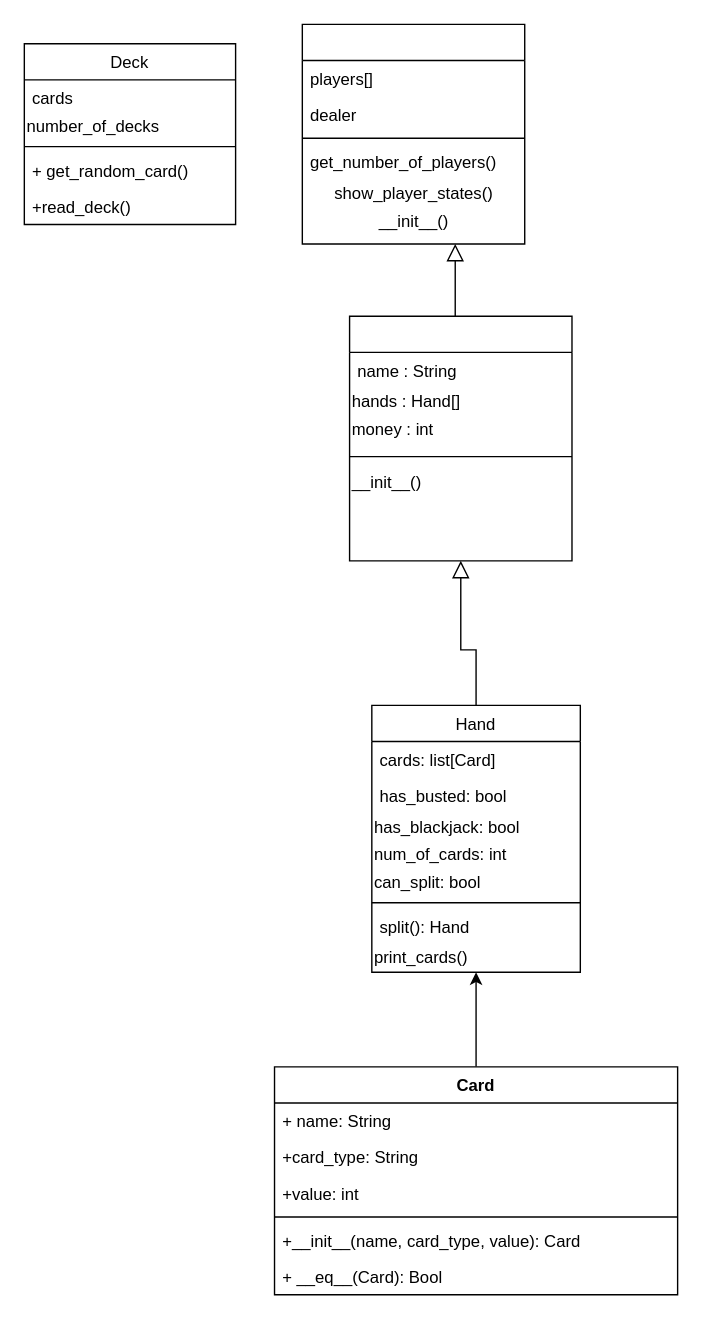
This 702x1323 diagram has some shape labels left out. Here are the shapes that lost their labels. From the top down, the box of each, then its label:
(301, 23, 525, 244): Main
(348, 315, 572, 561): Player
